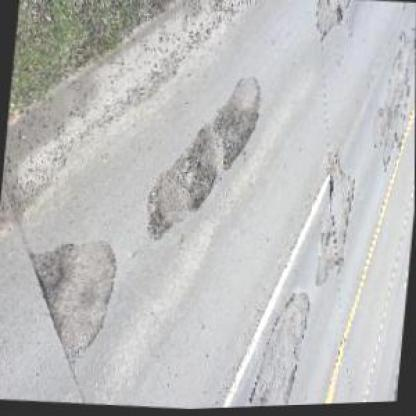pothole: (182, 130, 219, 215), (215, 108, 262, 172), (29, 245, 68, 297)
